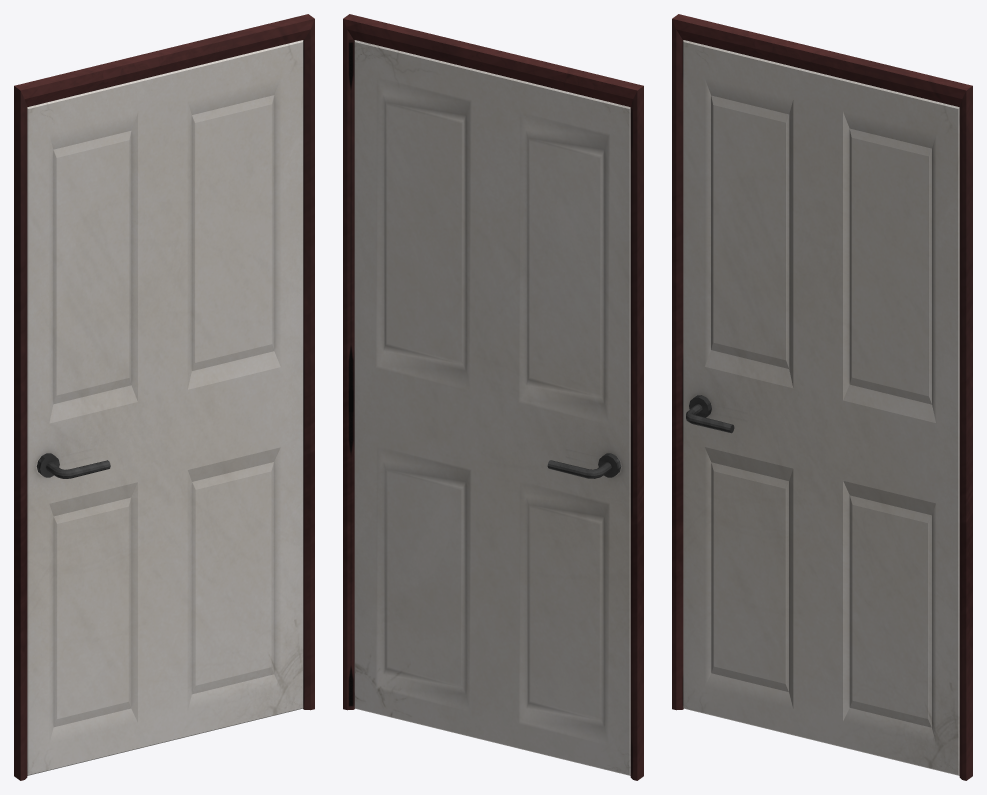
The model's file is door.fbx.
3 renders of one model, left to right at view 1: azimuth 30°, elevation 25°; view 2: azimuth 150°, elevation 25°; view 3: azimuth 330°, elevation 25°, orthographic.
Parts seen in each view (by area): view 1: Door_plate_mesh, Door_Edge_Mesh, Bolus_mesh; view 2: Door_plate_mesh, Door_Edge_Mesh, Bolus_mesh; view 3: Door_plate_mesh, Door_Edge_Mesh, Bolus_mesh.
Part boxes in pixels (box(x1,y1,x2,y2)): Door_plate_mesh: box(27, 40, 303, 775); Door_Edge_Mesh: box(14, 14, 314, 780); Bolus_mesh: box(46, 460, 110, 478); Door_plate_mesh: box(354, 40, 630, 775); Door_Edge_Mesh: box(343, 14, 643, 780); Bolus_mesh: box(547, 460, 611, 478); Door_plate_mesh: box(683, 40, 959, 775); Door_Edge_Mesh: box(672, 14, 972, 780); Bolus_mesh: box(686, 404, 734, 433).
Size of the model in its own units: 10.15 by 22.74 by 2.28.
